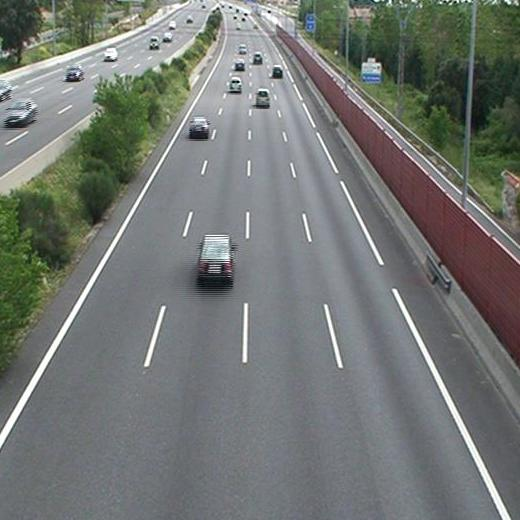car: (200, 235, 233, 277), (188, 118, 209, 135), (255, 90, 269, 106), (229, 78, 244, 91), (273, 65, 284, 77), (234, 59, 244, 70), (253, 53, 262, 63), (238, 45, 247, 54)
